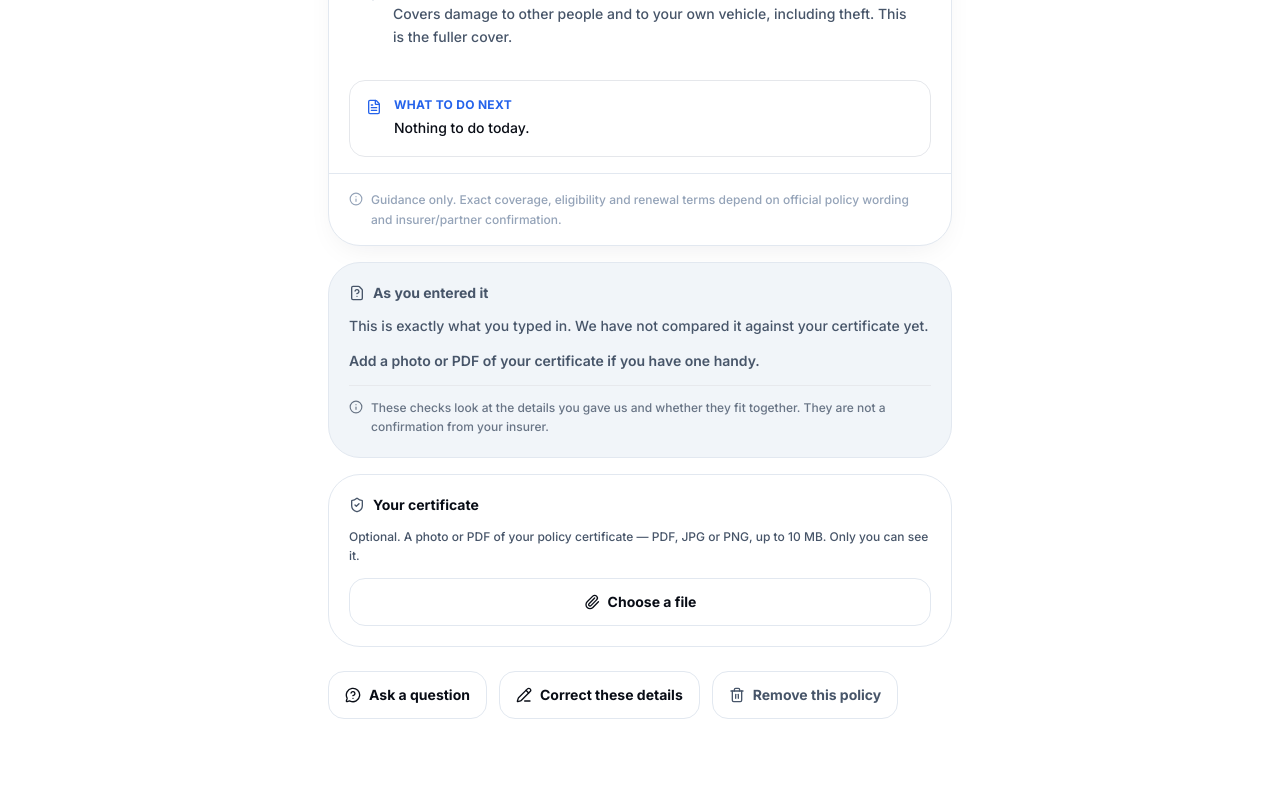
Test: a policy the customer holds › asks before removing anything
The width and height of the screenshot is (1280, 799).
(page scrolled)
Click the button "Remove this policy" at (805, 694), box [712, 670, 898, 718]
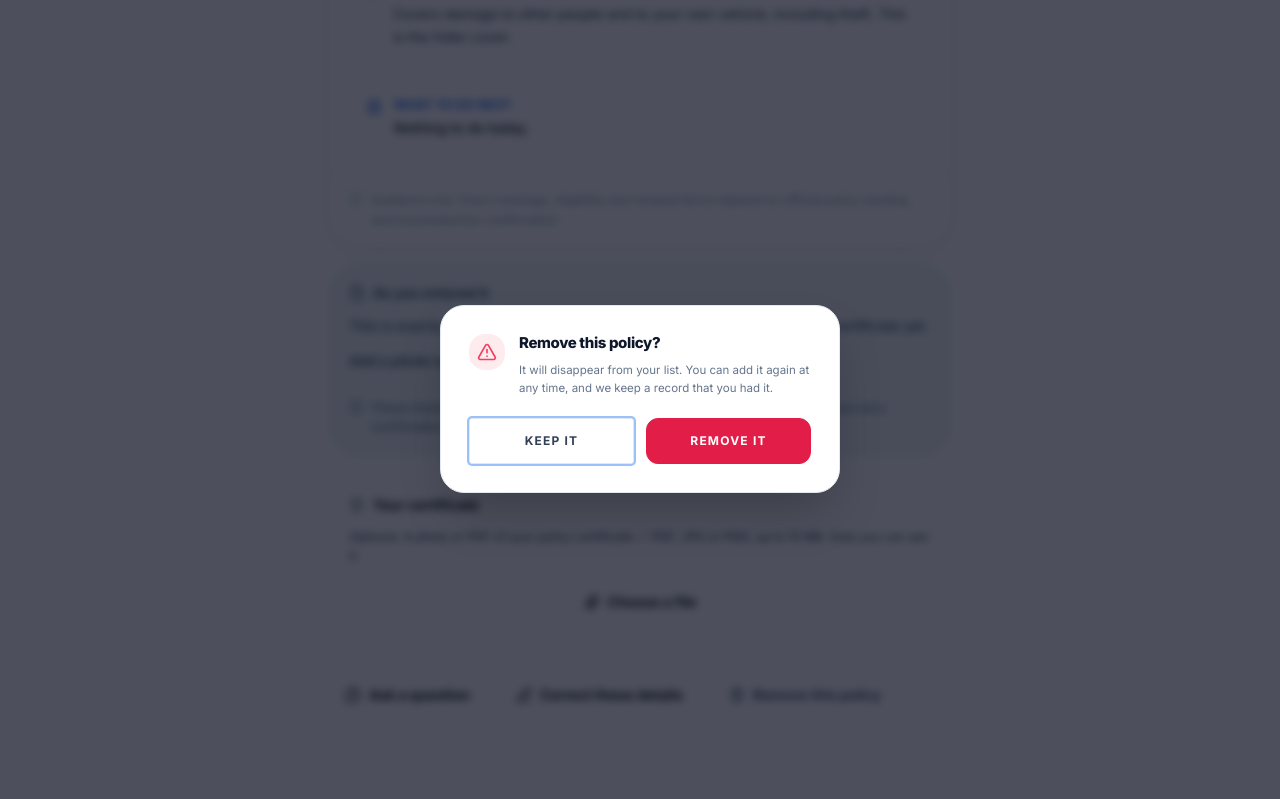
Expected: the dialog is shown, [440, 305, 840, 493]
